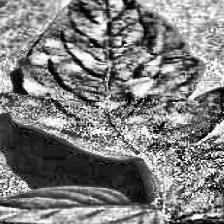leaf mold: (3, 0, 224, 161)
